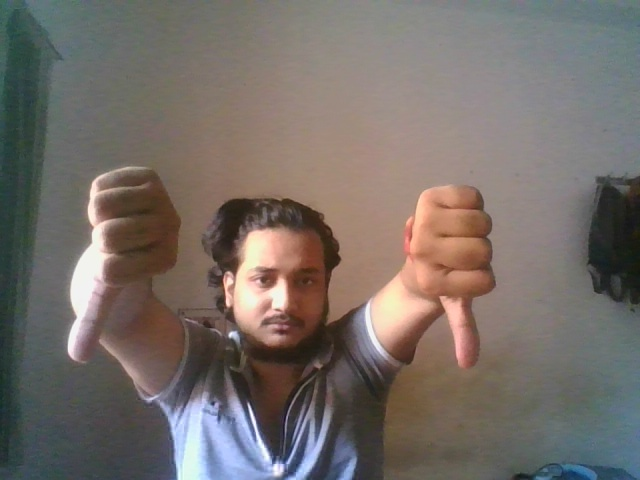ThumbsDown: (68, 166, 182, 373), (409, 183, 495, 371)
